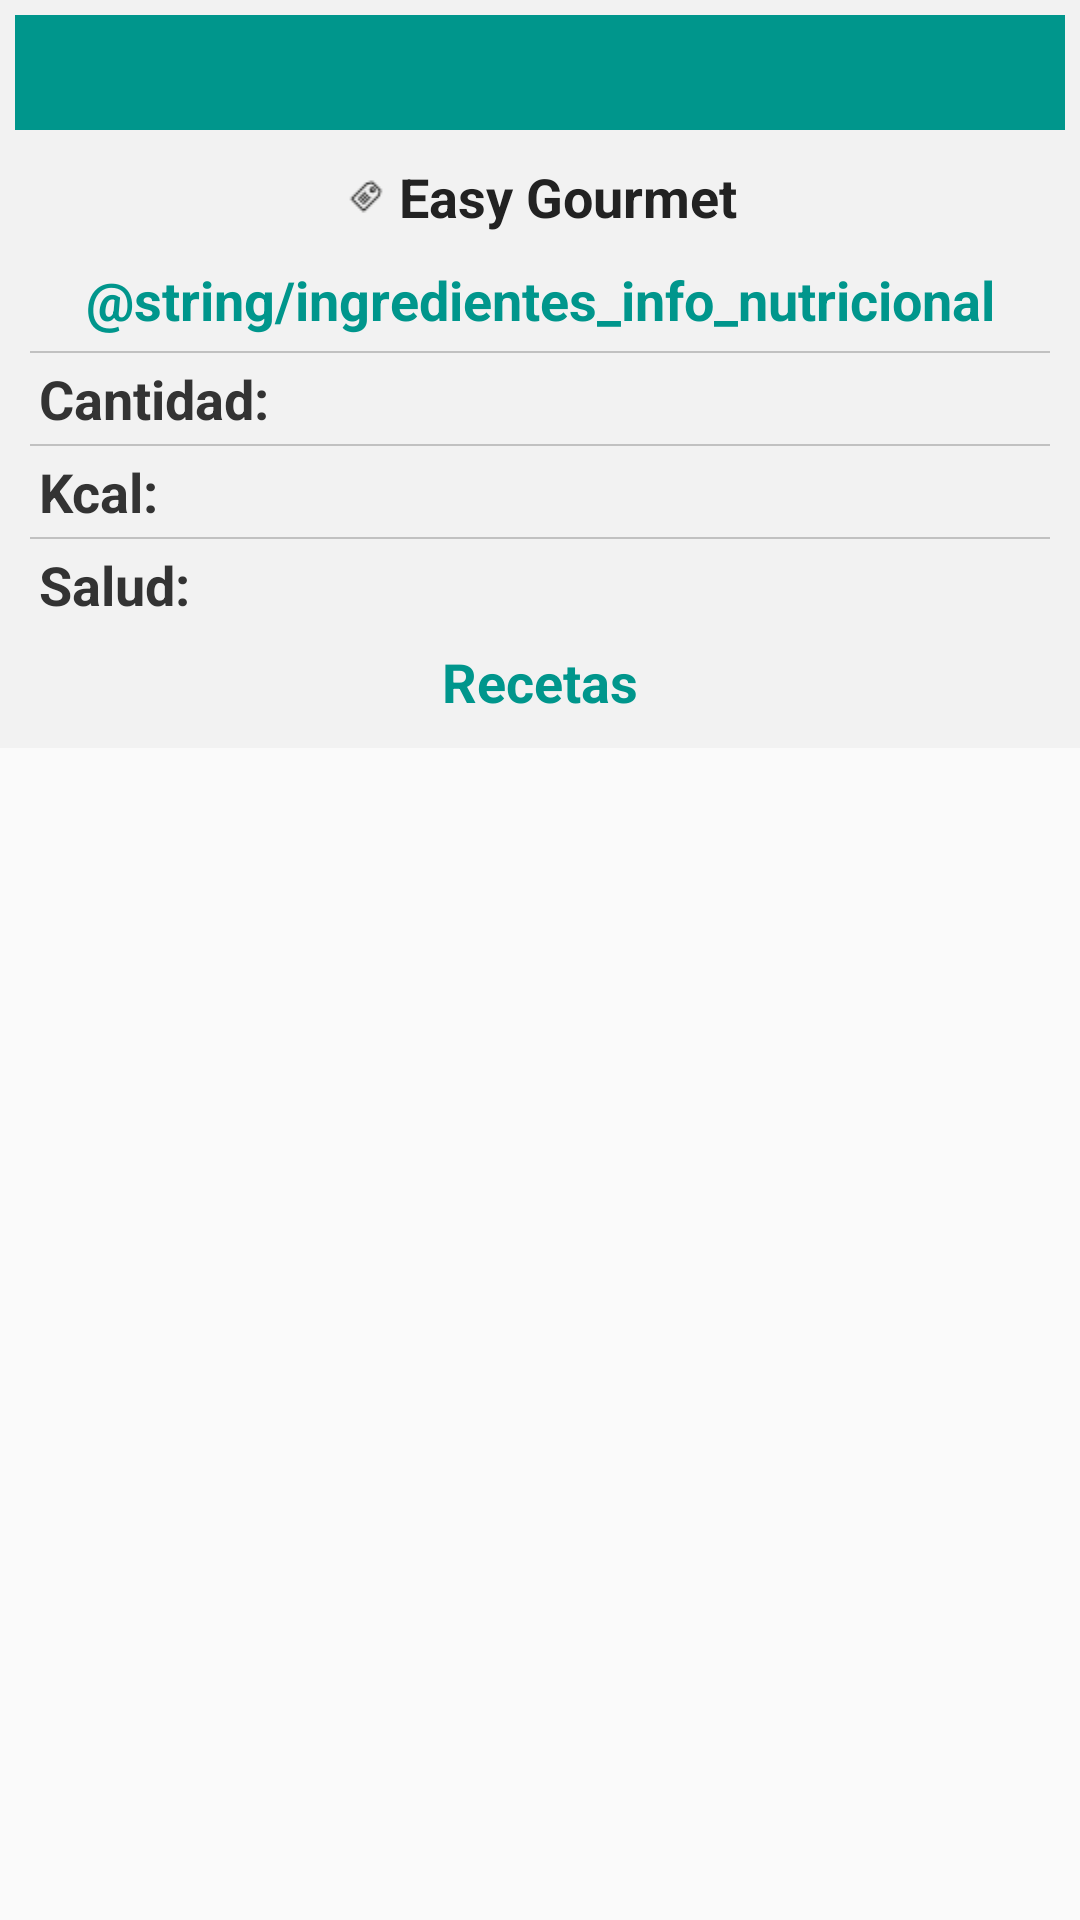

Screen size 1080px×1920px. Icon name, then its box in pixels as (x1, y1, x2, y2):
recetas vista categoria: (350, 180, 382, 213)
